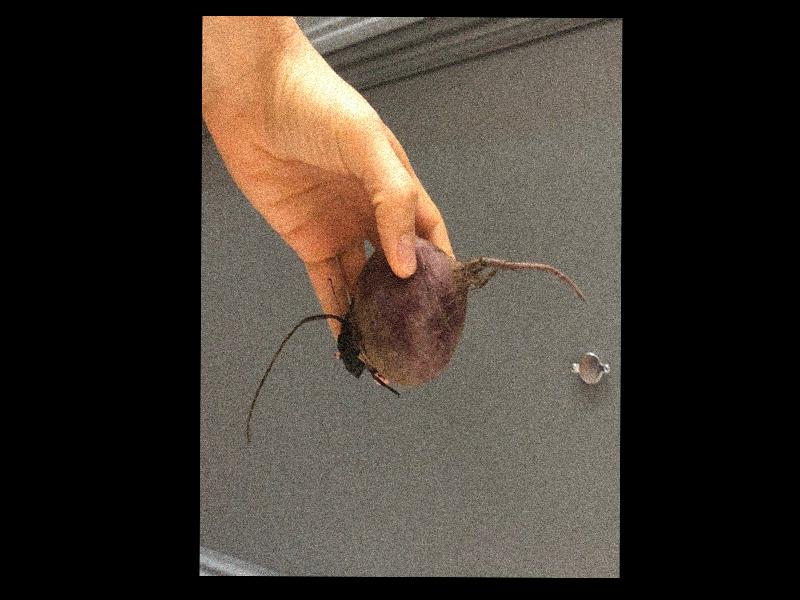Beet: (246, 235, 586, 447)
